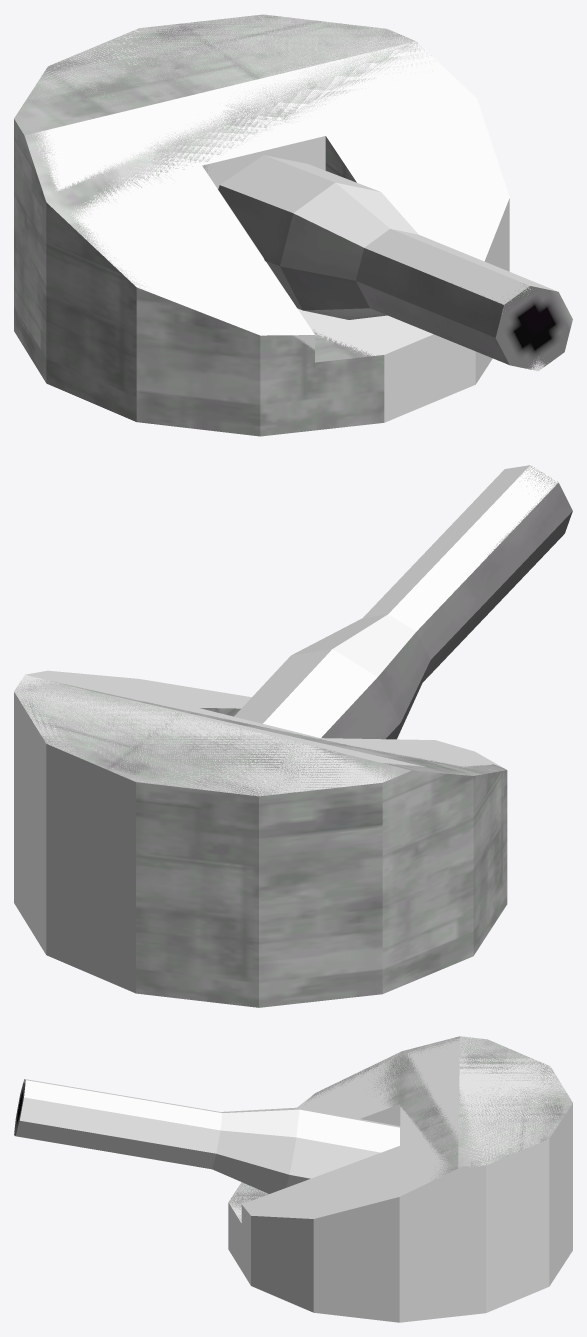
The model's file is Pelleaon_turret_05.obj.
The picture shows the model from 3 angles, top to bottom: view 1: azimuth 30°, elevation 25°; view 2: azimuth 150°, elevation 25°; view 3: azimuth 270°, elevation 25°; orthographic projection. The views are drawn at different scales.
Visible parts, largest first — view 1: T_shadow, Turret_05, Barrel; view 2: Turret_05, T_shadow, Barrel; view 3: T_shadow, Turret_05.
Part boxes in pixels (box(x1,y1,x2,y2)): T_shadow: box(32, 15, 557, 422); Turret_05: box(14, 14, 435, 436); Barrel: box(218, 185, 572, 369); Turret_05: box(14, 677, 507, 1007); T_shadow: box(14, 465, 558, 993); Barrel: box(321, 465, 572, 739); T_shadow: box(14, 1036, 572, 1322); Turret_05: box(229, 1036, 572, 1220).
Bounding box in the file's own units: 3.84 × 2.08 × 6.22.
